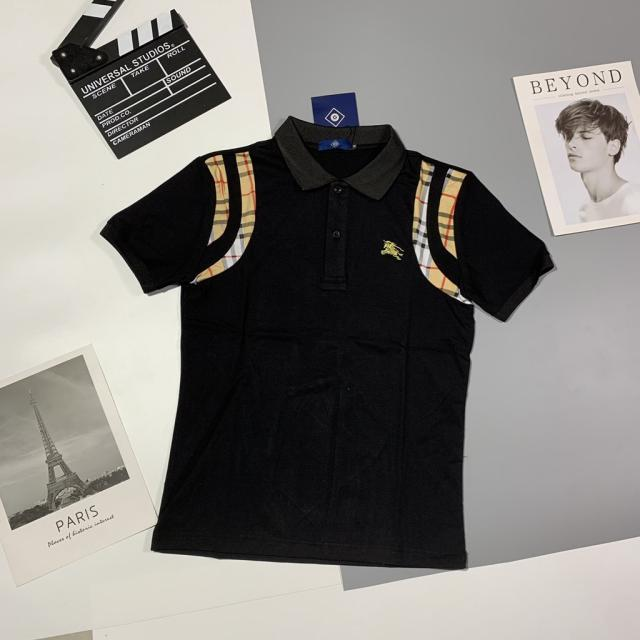Shirt: (100, 111, 556, 571)
